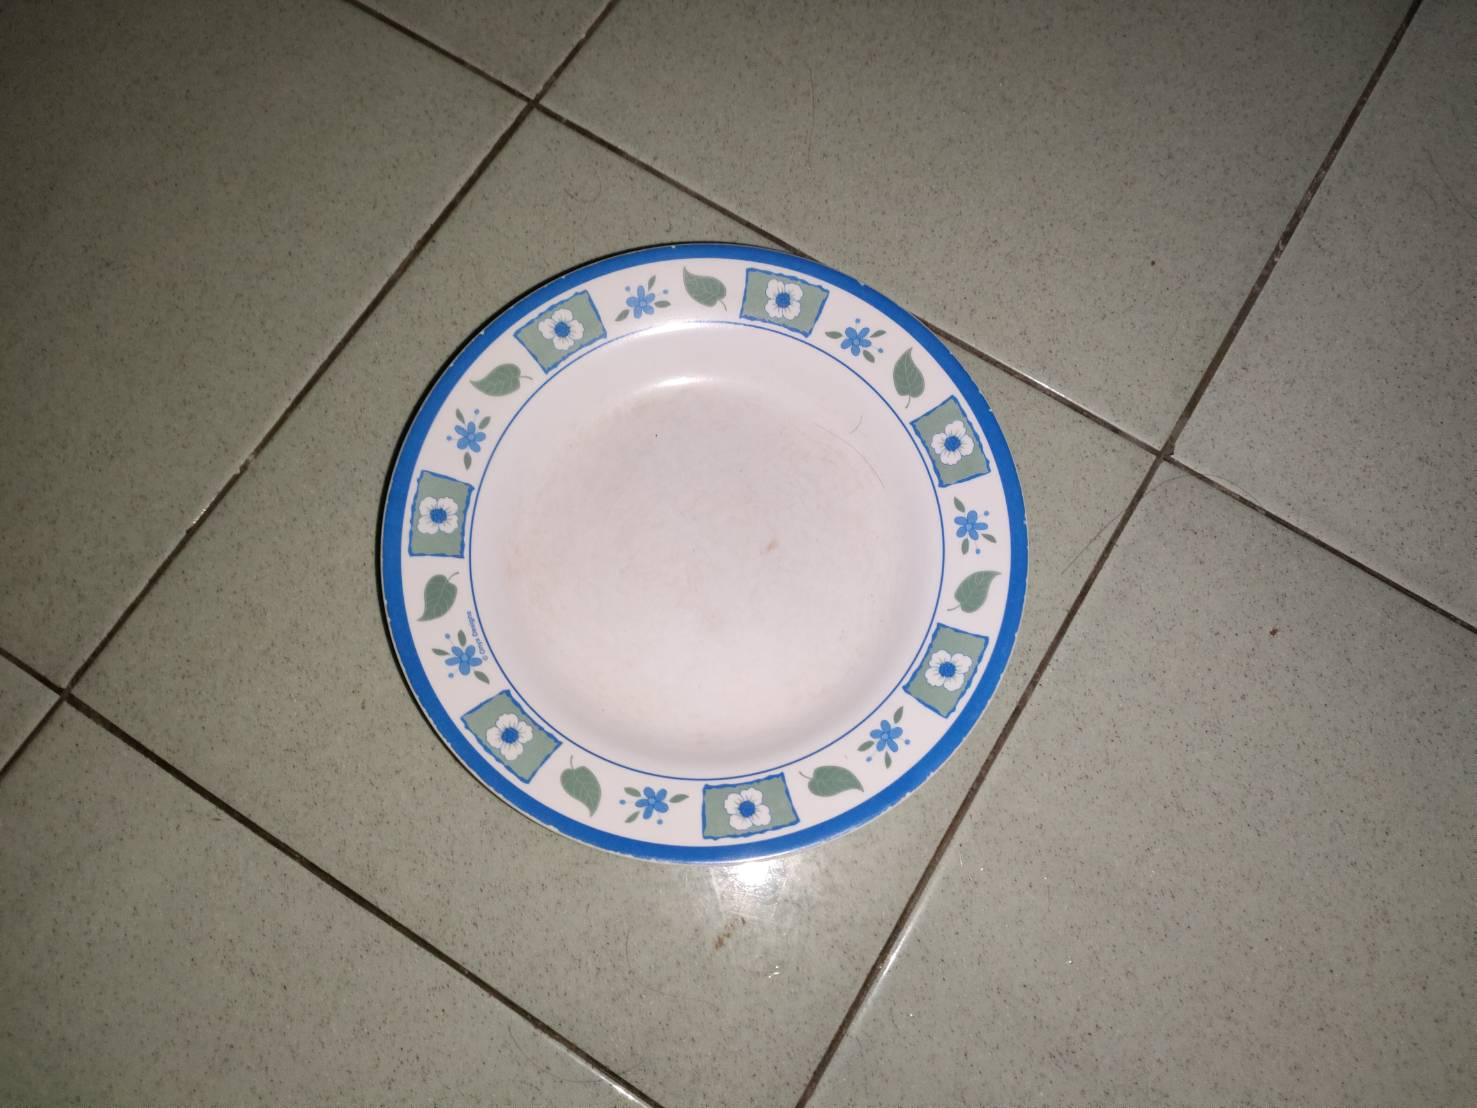piring: (371, 233, 1027, 861)
